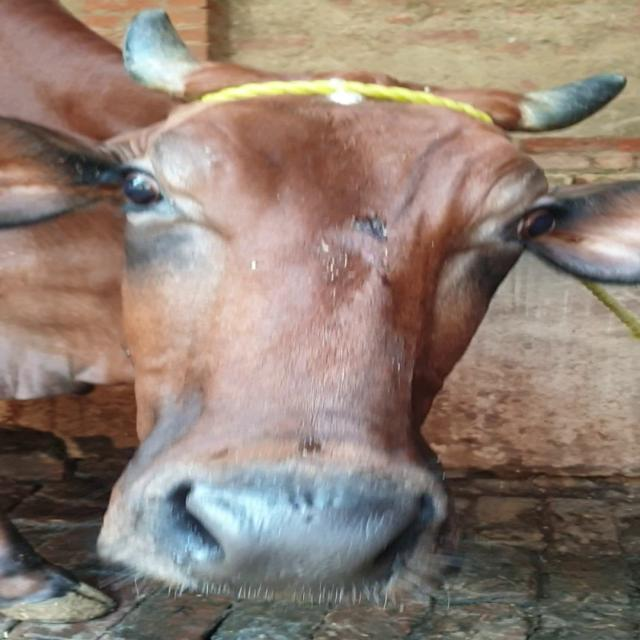cowFace: (95, 68, 578, 599)
